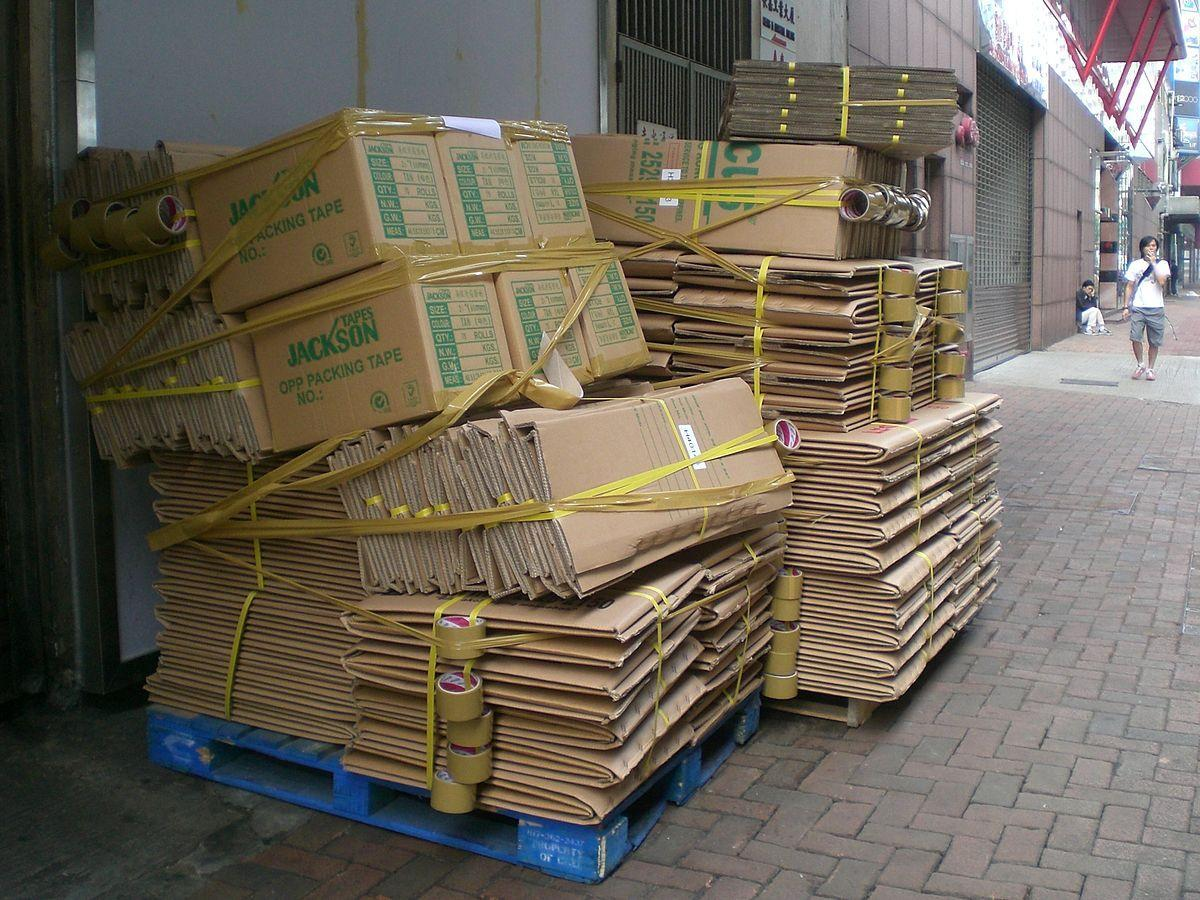box: (235, 252, 528, 463), (180, 107, 471, 315)
